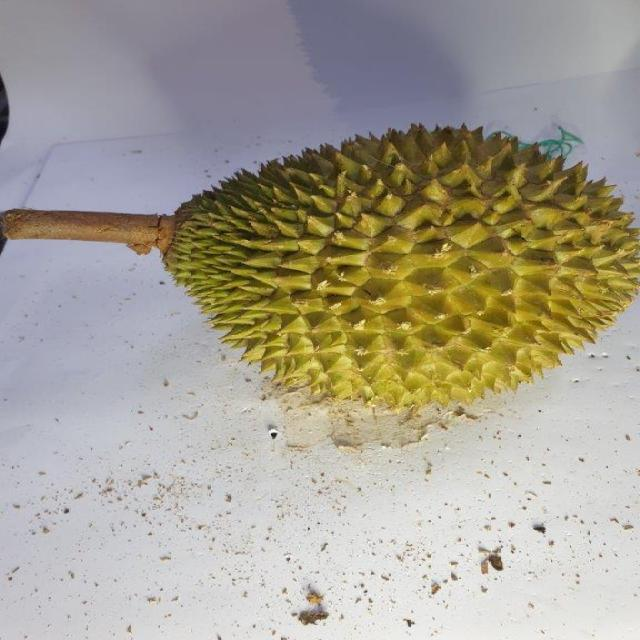immature: (156, 117, 640, 414)
